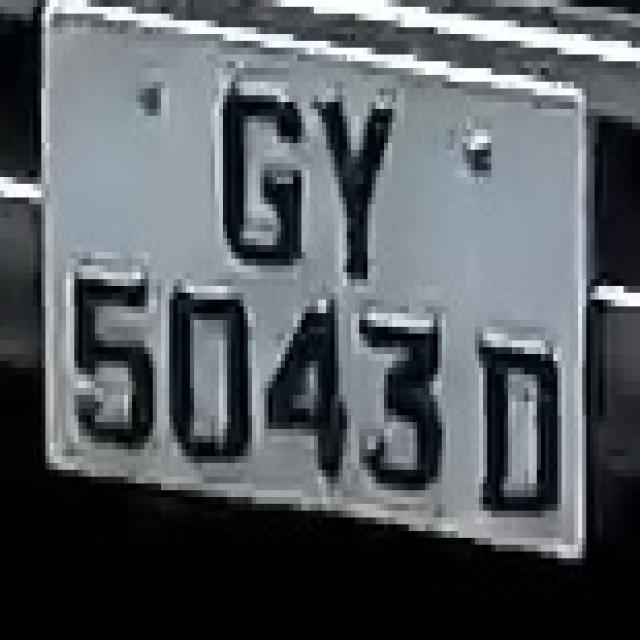0: (178, 252, 260, 470)
3: (351, 279, 458, 511)
4: (264, 259, 347, 483)
5: (54, 225, 157, 470)
D: (471, 326, 570, 544)
G: (210, 61, 306, 293)
Y: (310, 61, 404, 286)
